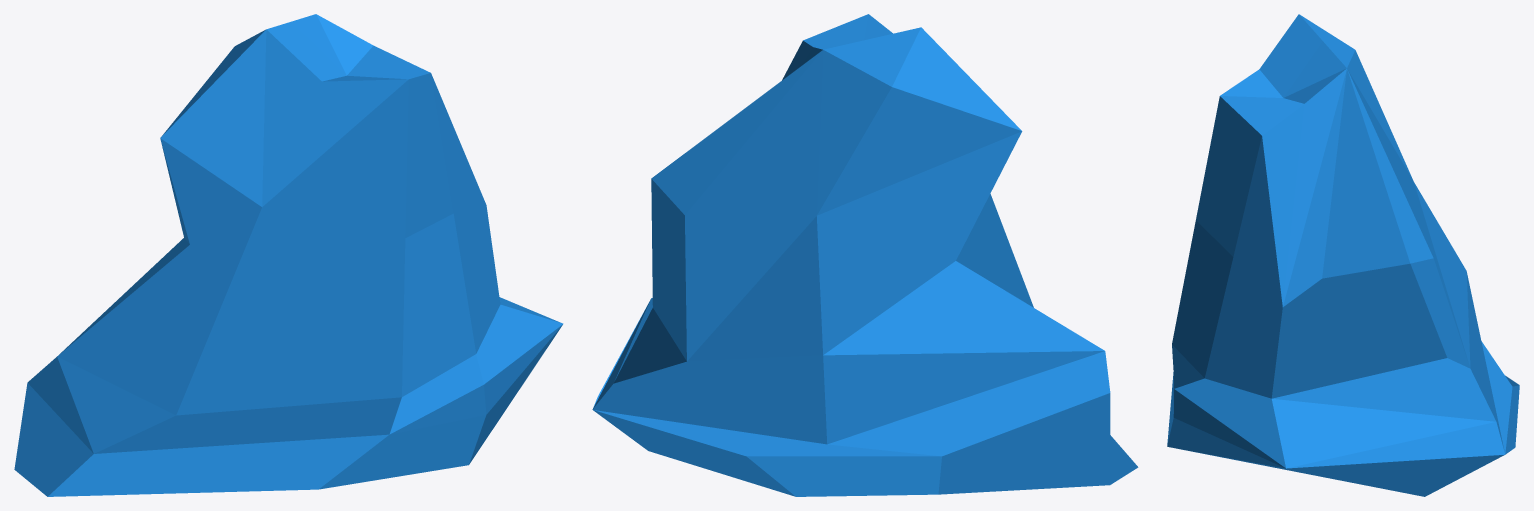
The model's file is montagne-4.fbx.
3 views of the same model, side by side, from view 1: azimuth 30°, elevation 25°; view 2: azimuth 150°, elevation 25°; view 3: azimuth 270°, elevation 25° (orthographic). The views are drawn at different scales.
Visible parts, largest first — view 1: montagne.004; view 2: montagne.004; view 3: montagne.004.
Boxes of the visible parts, x1,y1,x2,y2 form: montagne.004: [14, 14, 563, 496]; montagne.004: [592, 14, 1138, 496]; montagne.004: [1167, 14, 1519, 496].
Bounding box in the file's own units: 14936 × 11480 × 9776.
